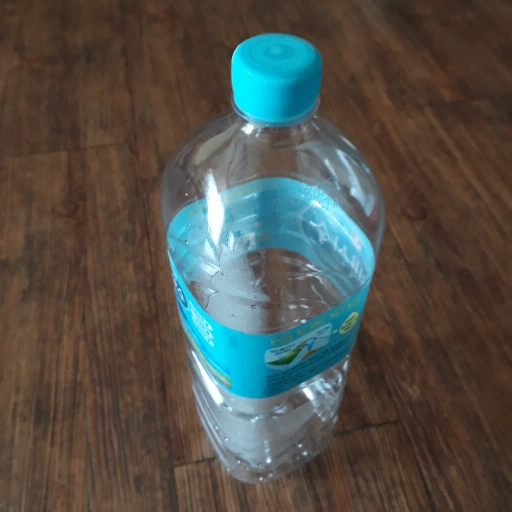Plastic_0: (157, 35, 384, 481)
